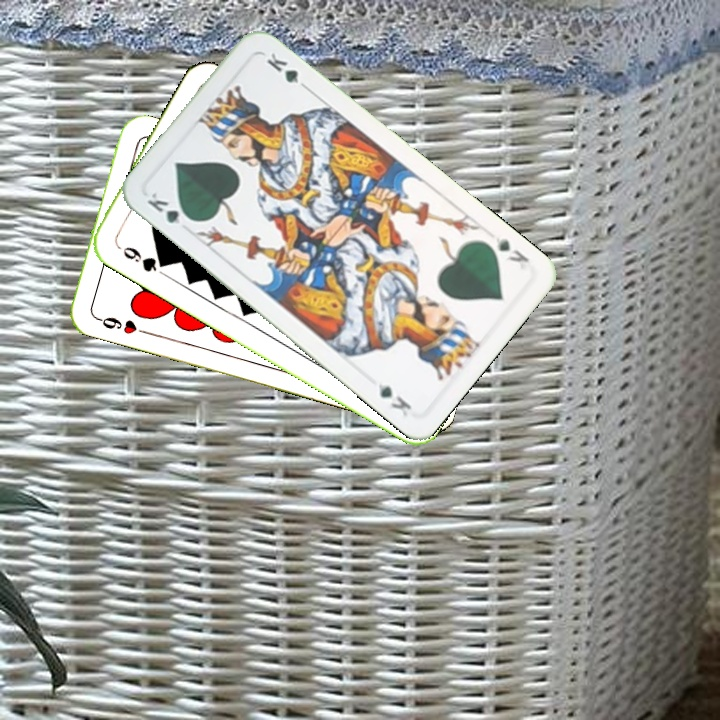G9: (112, 240, 170, 275)
GK: (142, 188, 197, 227), (491, 233, 532, 266)
H9: (91, 312, 149, 337)
